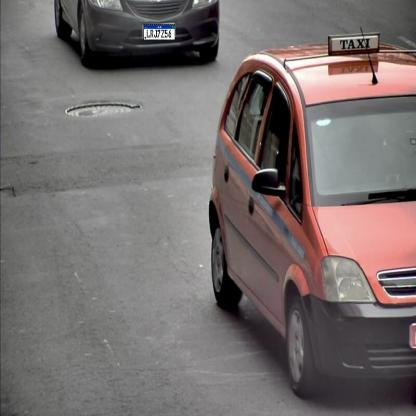PlacaM: (144, 24, 175, 40)
